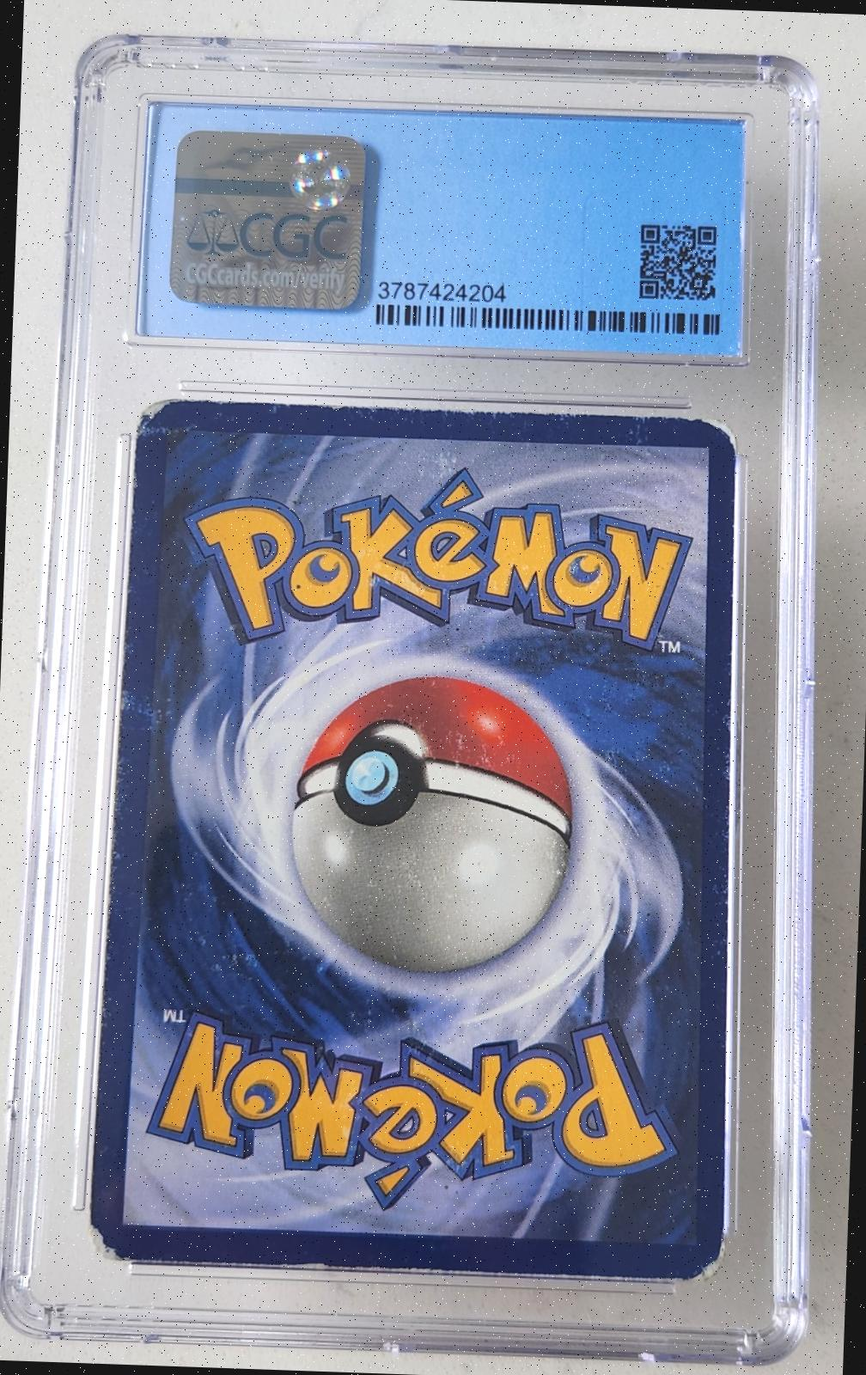card-2UtV: (87, 398, 737, 1282)
